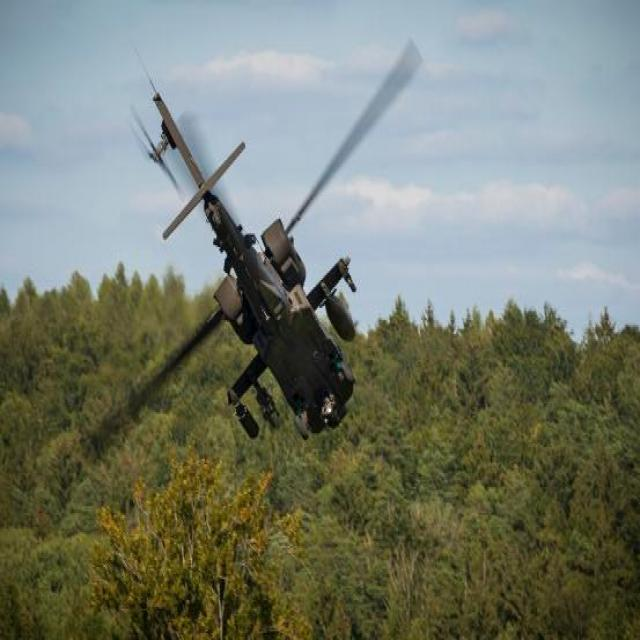MIL_HELO: (42, 35, 444, 498)
